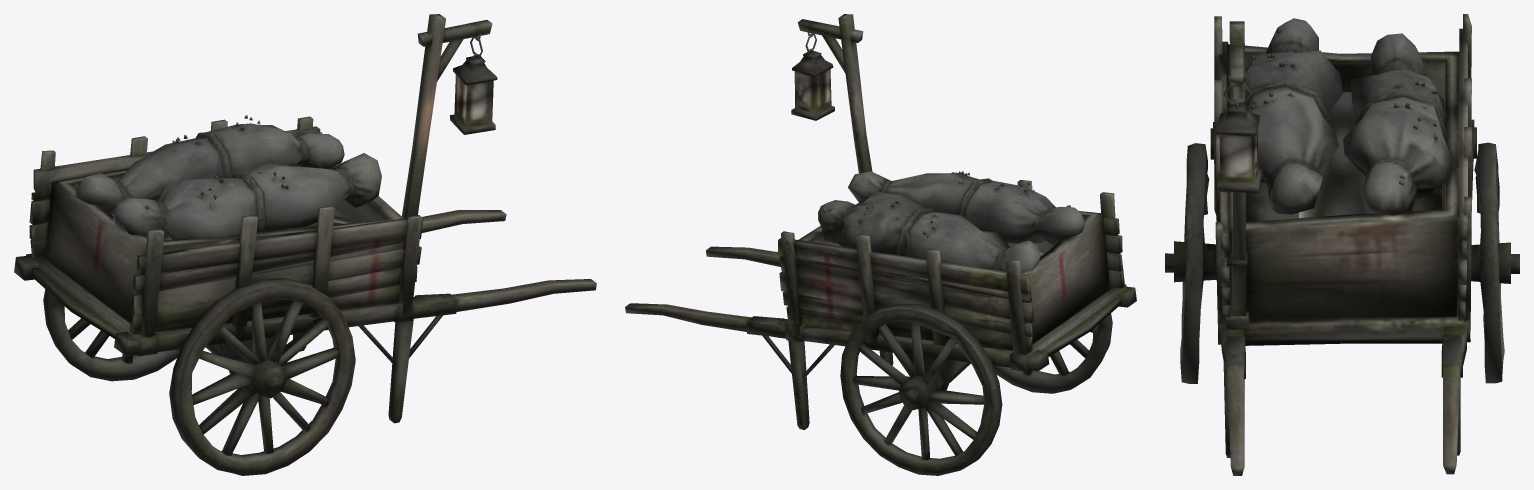
Rendered from plague_cart.glb.
The picture shows the model from 3 angles, left to right: view 1: azimuth 30°, elevation 25°; view 2: azimuth 150°, elevation 25°; view 3: azimuth 270°, elevation 25°; orthographic projection. The views are drawn at different scales.
Visible parts, largest first — view 1: tripo_node_3952c150-45f0-445b-8555-e77255e72fb2; view 2: tripo_node_3952c150-45f0-445b-8555-e77255e72fb2; view 3: tripo_node_3952c150-45f0-445b-8555-e77255e72fb2.
Part boxes in pixels (x1=…): tripo_node_3952c150-45f0-445b-8555-e77255e72fb2: x1=14, y1=14, x2=596, y2=475; tripo_node_3952c150-45f0-445b-8555-e77255e72fb2: x1=625, y1=14, x2=1136, y2=475; tripo_node_3952c150-45f0-445b-8555-e77255e72fb2: x1=1165, y1=14, x2=1519, y2=475.
Bounding box in the file's own units: 0.998 × 0.7833 × 0.5488.
1 material, 1 textured.
